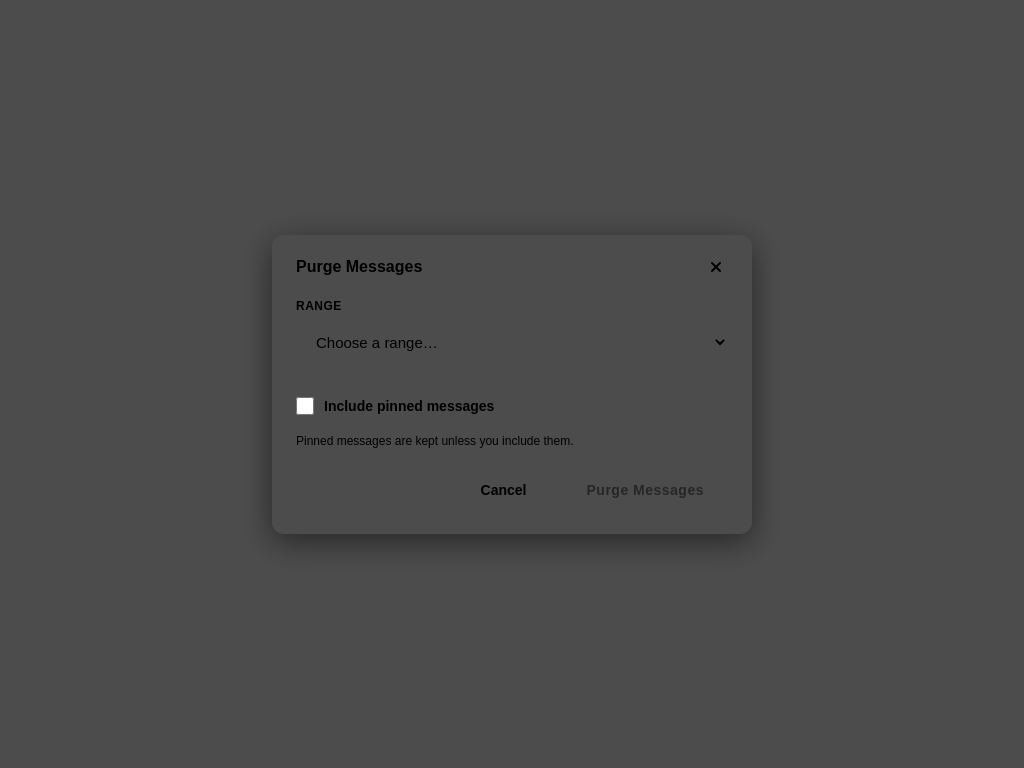
PurgeMessagesModal — include pinned messages (#3458) › channel (member, self-scope false) reads the right pin sentence
Select "Last 7 days" in the dropdown labelled "Range". click: point(512, 342)
box: [296, 320, 728, 364]
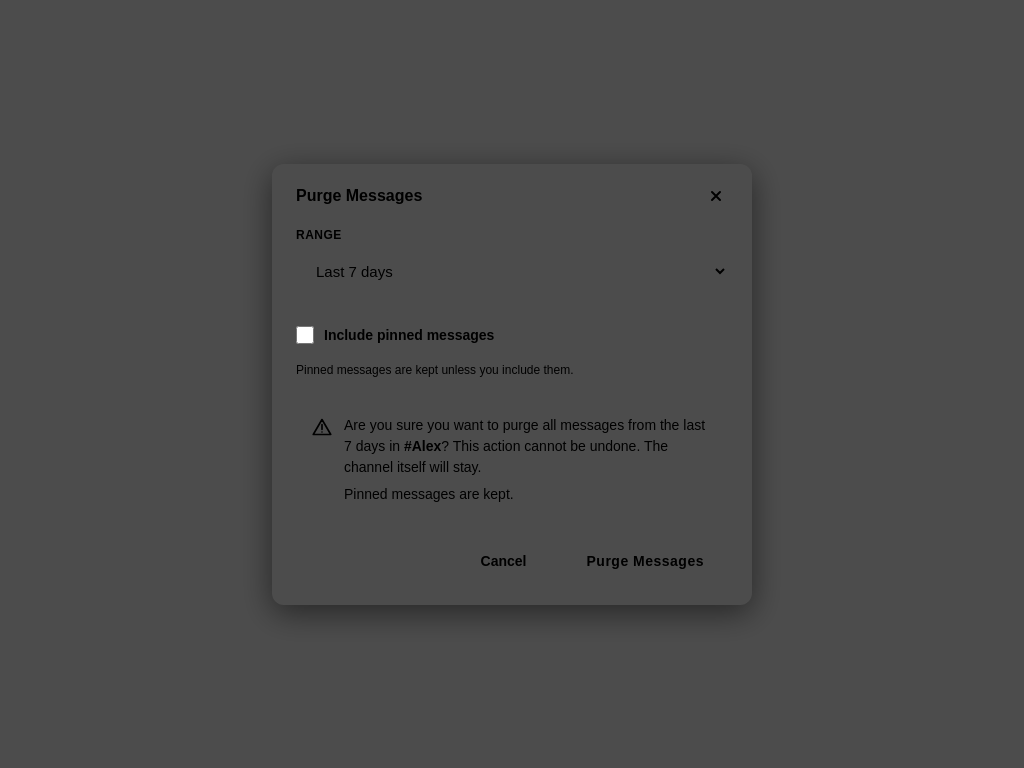
Check: the text "Pinned messages are kept." is shown, box [344, 486, 514, 502]
Click the checkbox labelled "Include pinned messages". click: point(305, 334)
box: [296, 326, 314, 344]
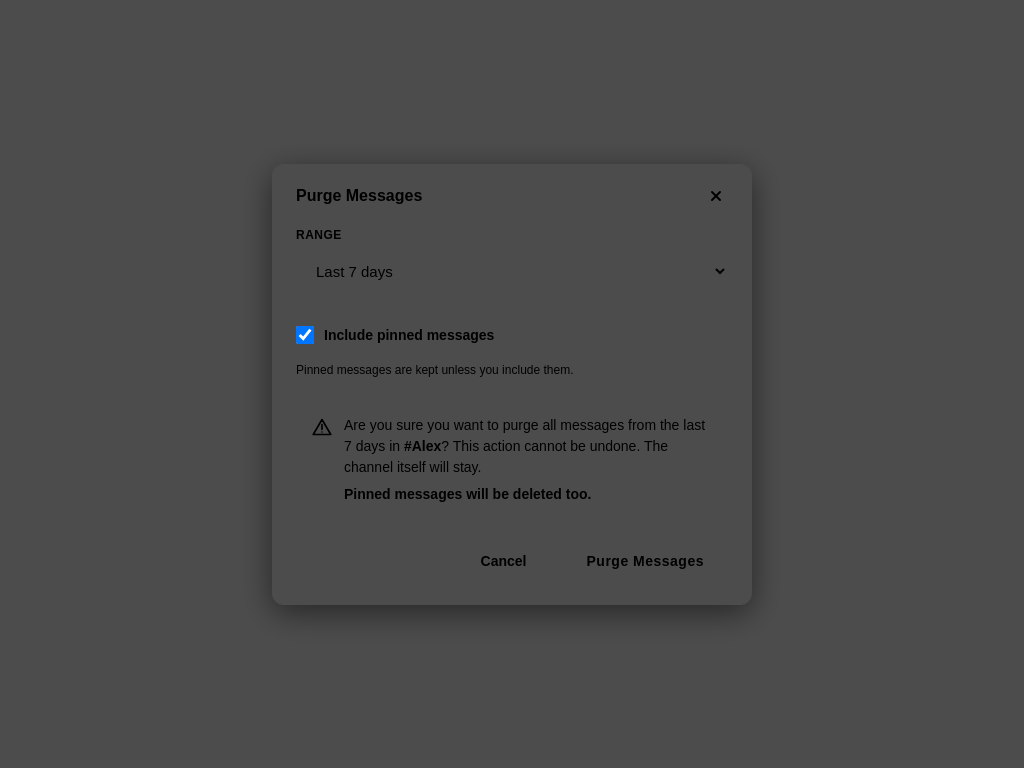
Check: the text "Pinned messages will be deleted too." is shown, box [344, 486, 591, 502]
